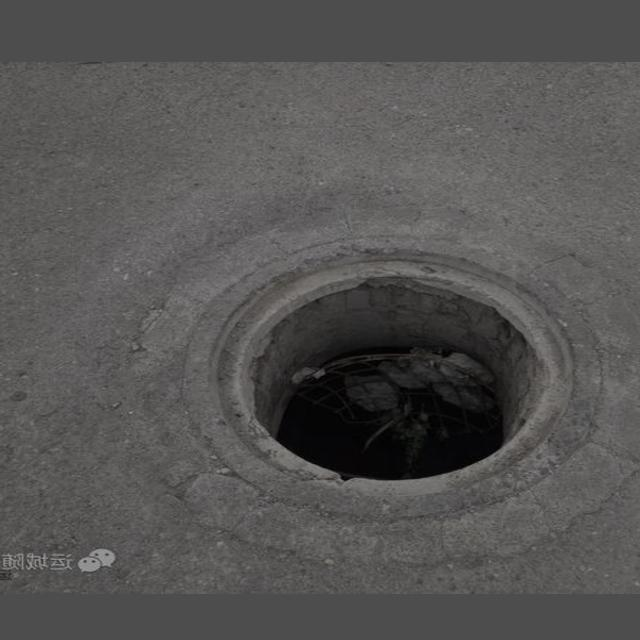lose: (171, 238, 633, 525)
